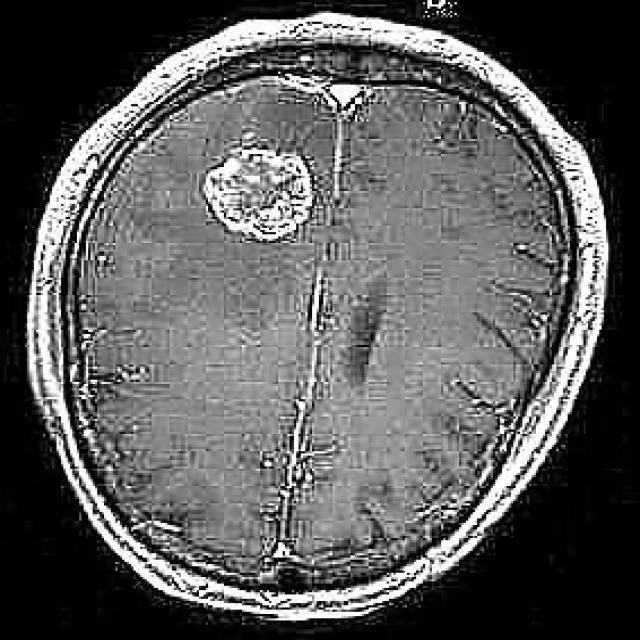tumor: (204, 143, 314, 243)
